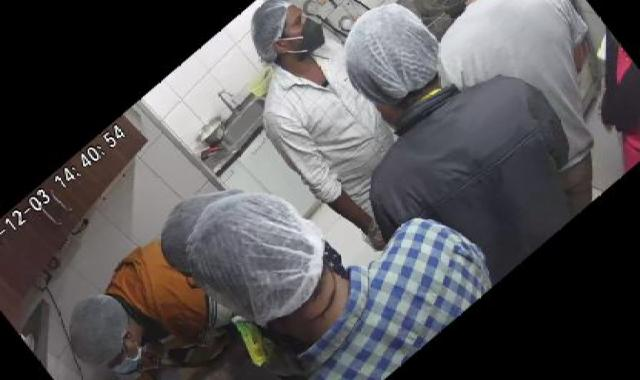hairnet: (193, 193, 322, 316), (336, 3, 442, 105), (159, 183, 252, 277), (62, 290, 138, 370), (236, 0, 308, 62)
